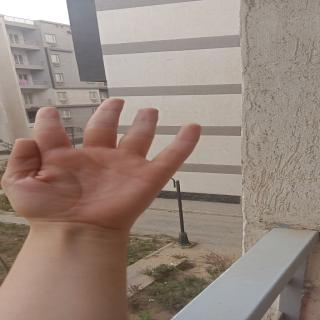SHEEN: (0, 98, 228, 216)
